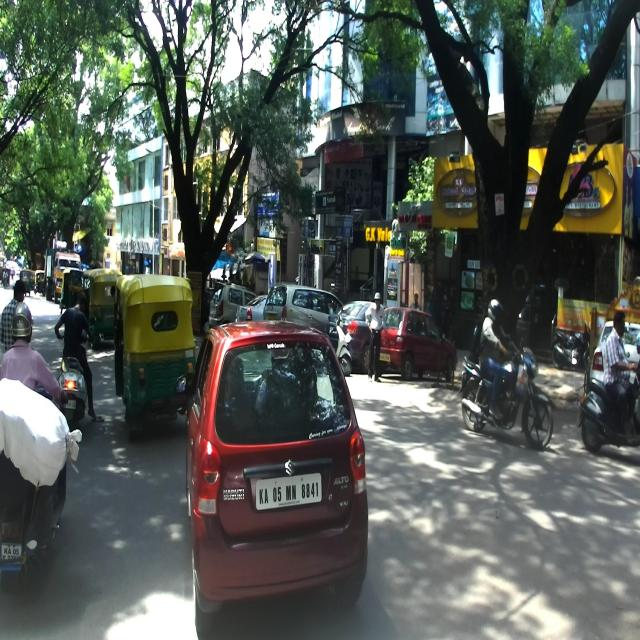Car_Maruti-Suzuki: (171, 322, 372, 626), (376, 305, 457, 385)
autorickshaw: (109, 273, 196, 440)
motorcycle_bajaj: (455, 339, 555, 447)
scooter: (576, 364, 640, 454), (54, 331, 93, 424)
